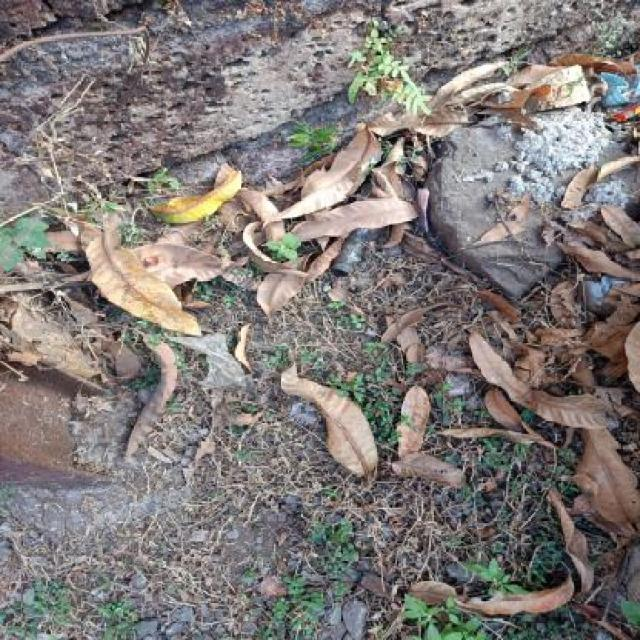garbage: (455, 314, 636, 640), (72, 208, 450, 336), (76, 223, 313, 332), (411, 63, 640, 114), (334, 162, 418, 279), (359, 94, 436, 180)
